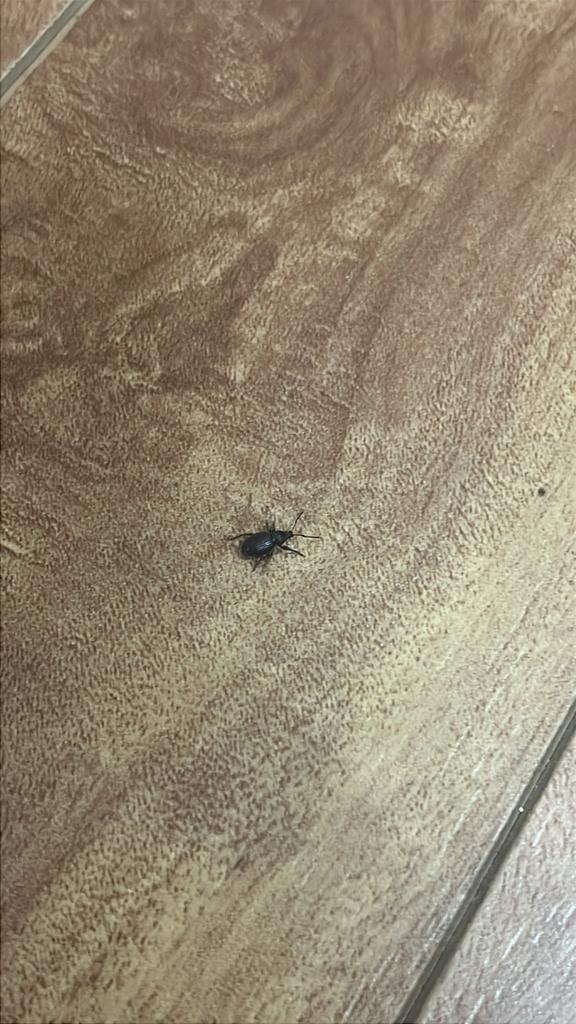weevils: (204, 500, 329, 586)
